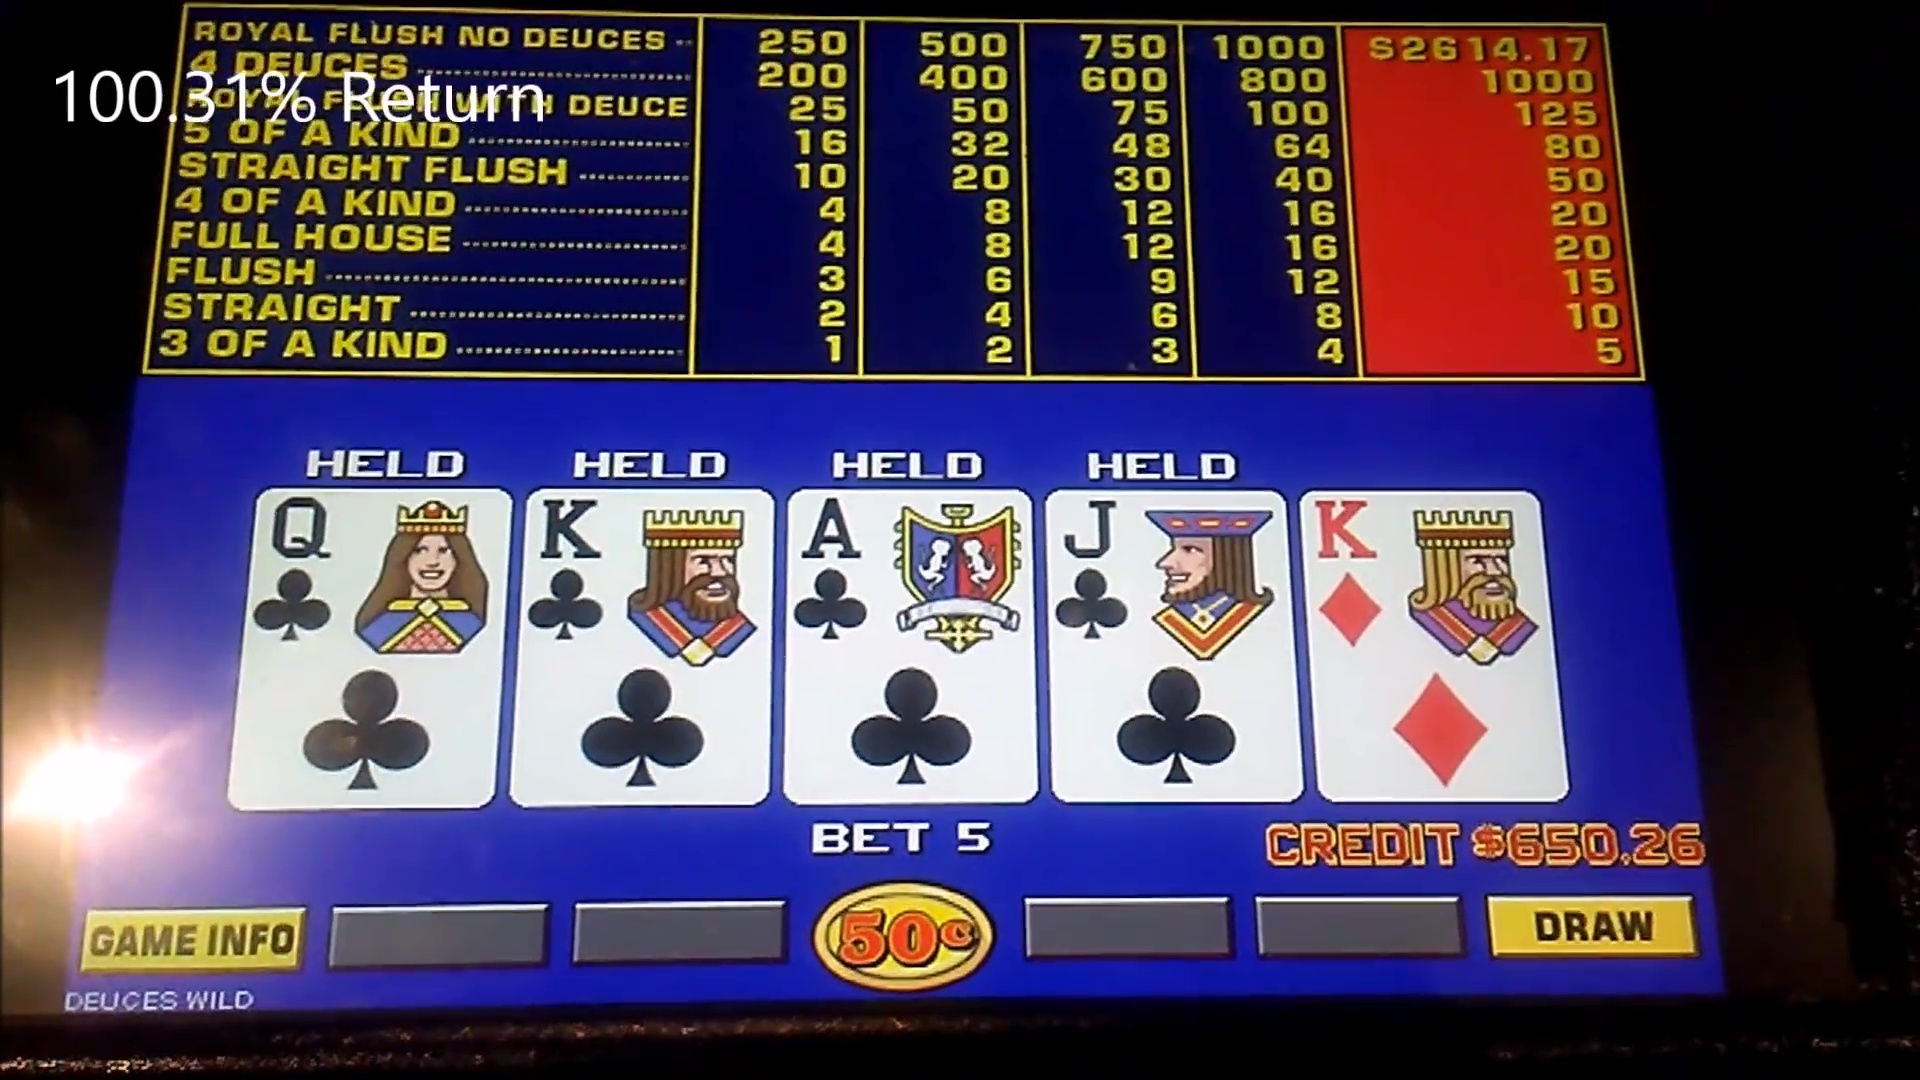CA: (789, 495, 1025, 661)
CJ: (1054, 497, 1291, 661)
CK: (527, 491, 771, 655)
CQ: (251, 489, 500, 662)
DK: (1317, 495, 1538, 659)
